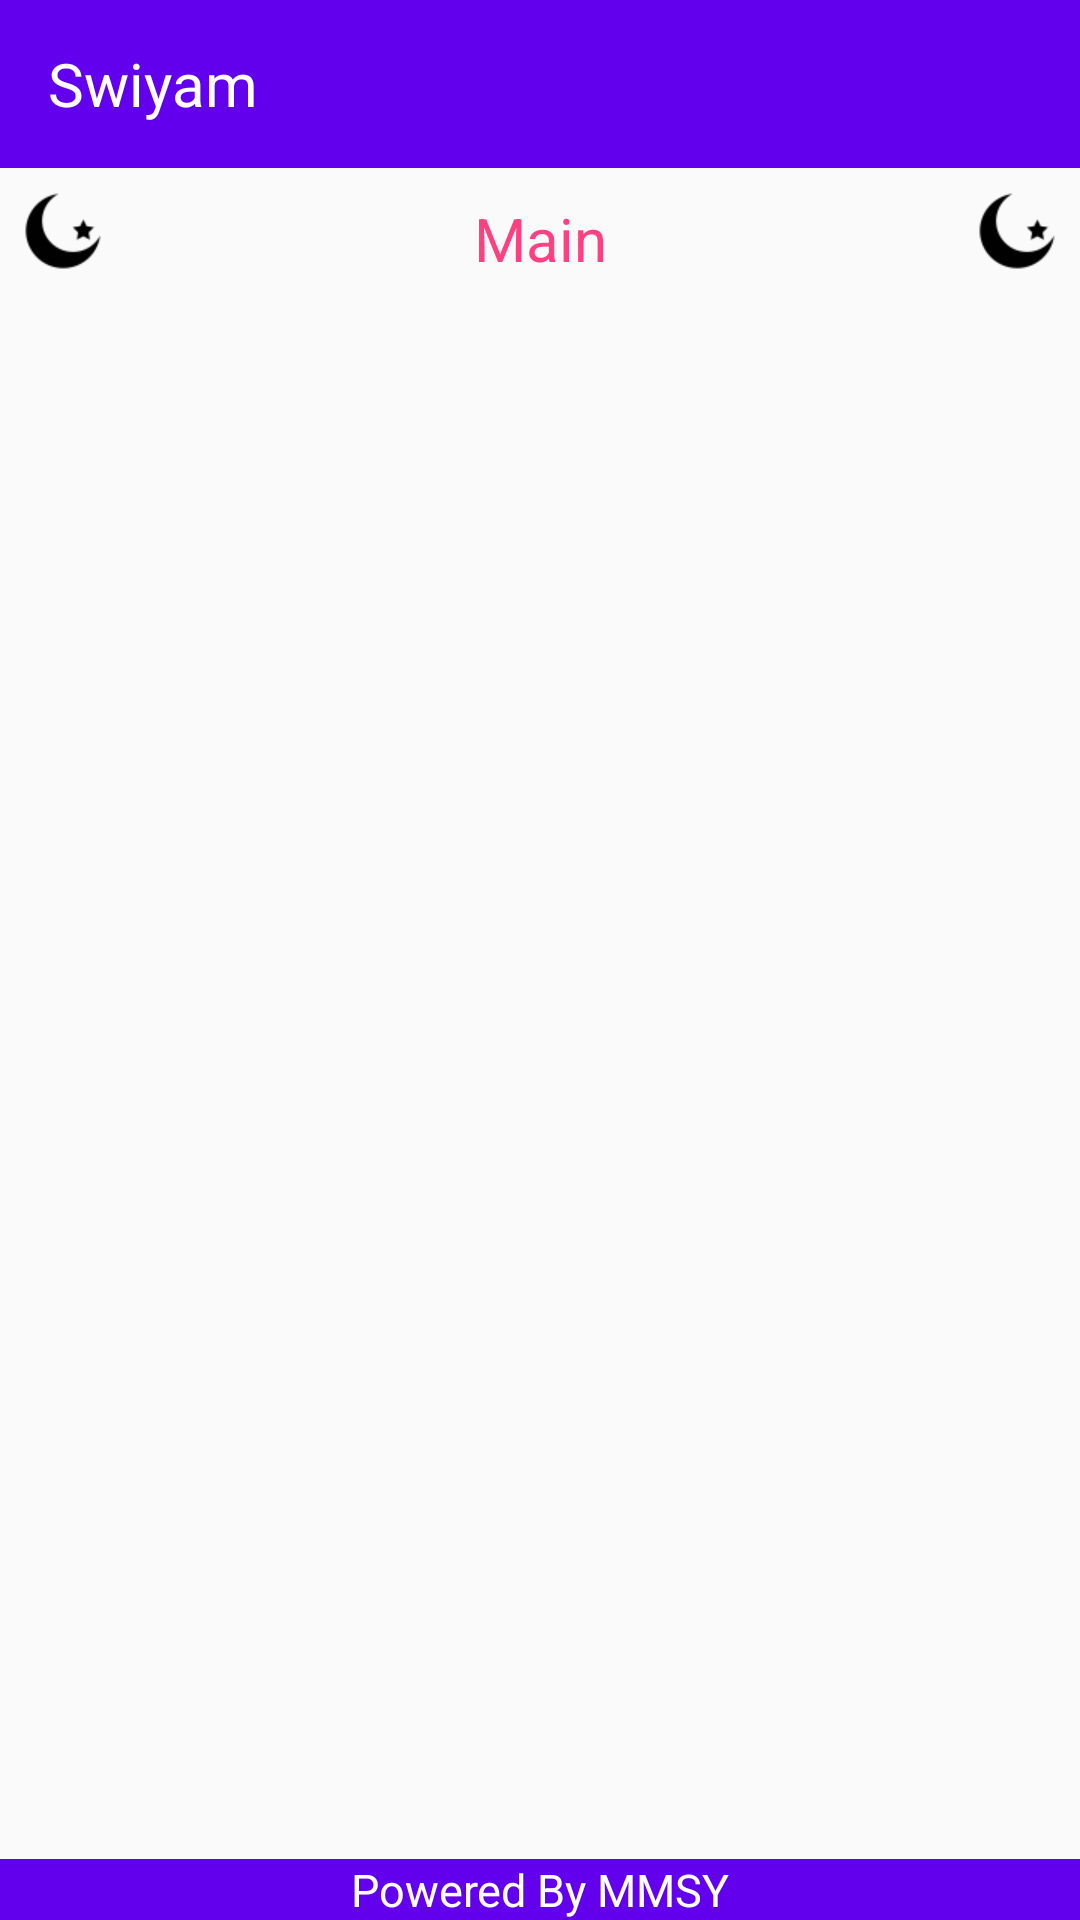

Icon bounding boxes for this 1080x1920 phone screenshot, format (x1, y1, x2, y2):
moon: (25, 193, 101, 269), (979, 193, 1055, 269)
